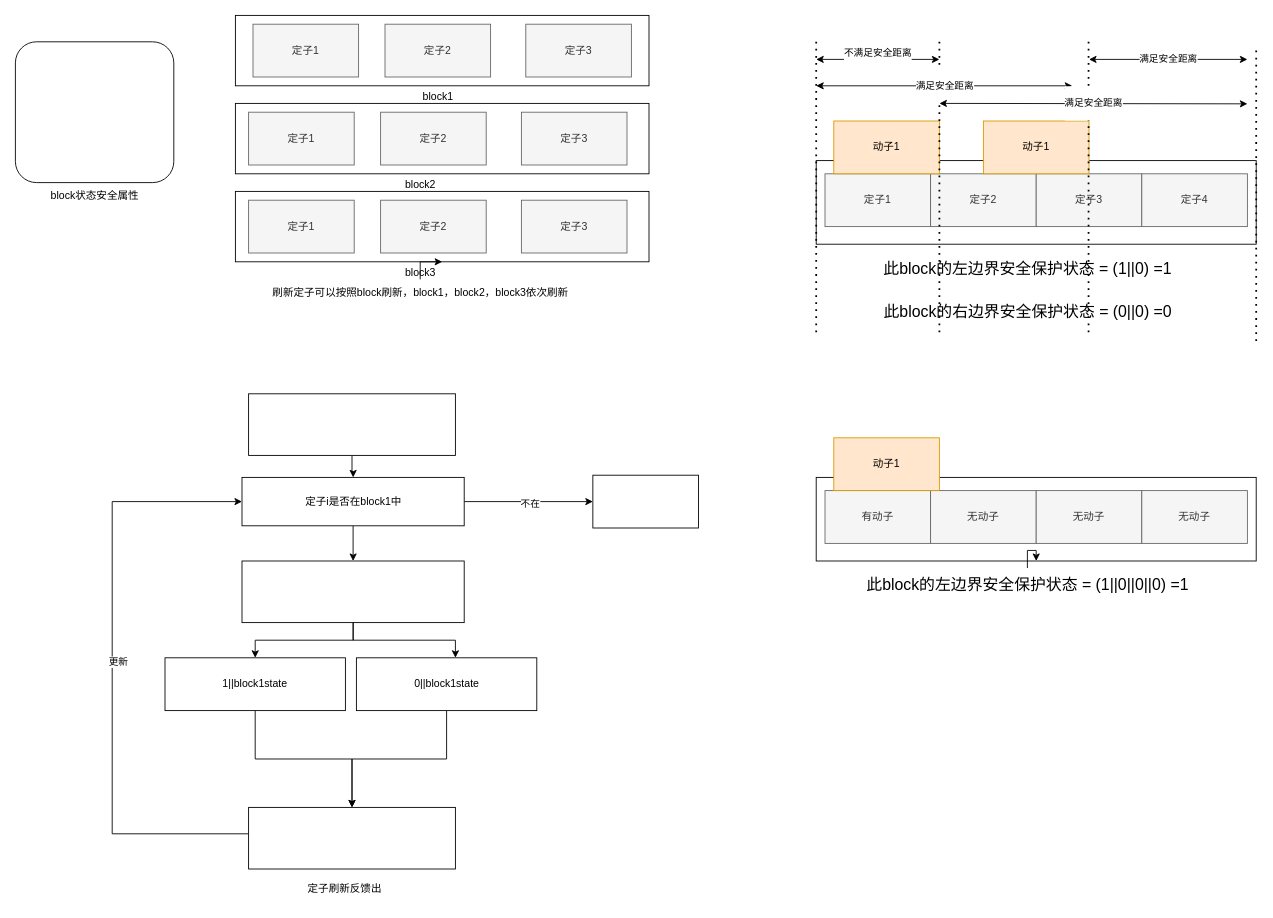
The diagram is 1273 pixels wide and 918 high, and some of its shapes have lost their labels. Each missing label, with the centre of its shape:
block1state: the point at 351,838
判断定子i是否有全局反馈: the point at 352,591
左边界保护属性：1,0 右边界保护属性：1,0 占用属性：1,0: the point at 94,112
状态block1state= 0: the point at 351,424
跳出: the point at 645,501
